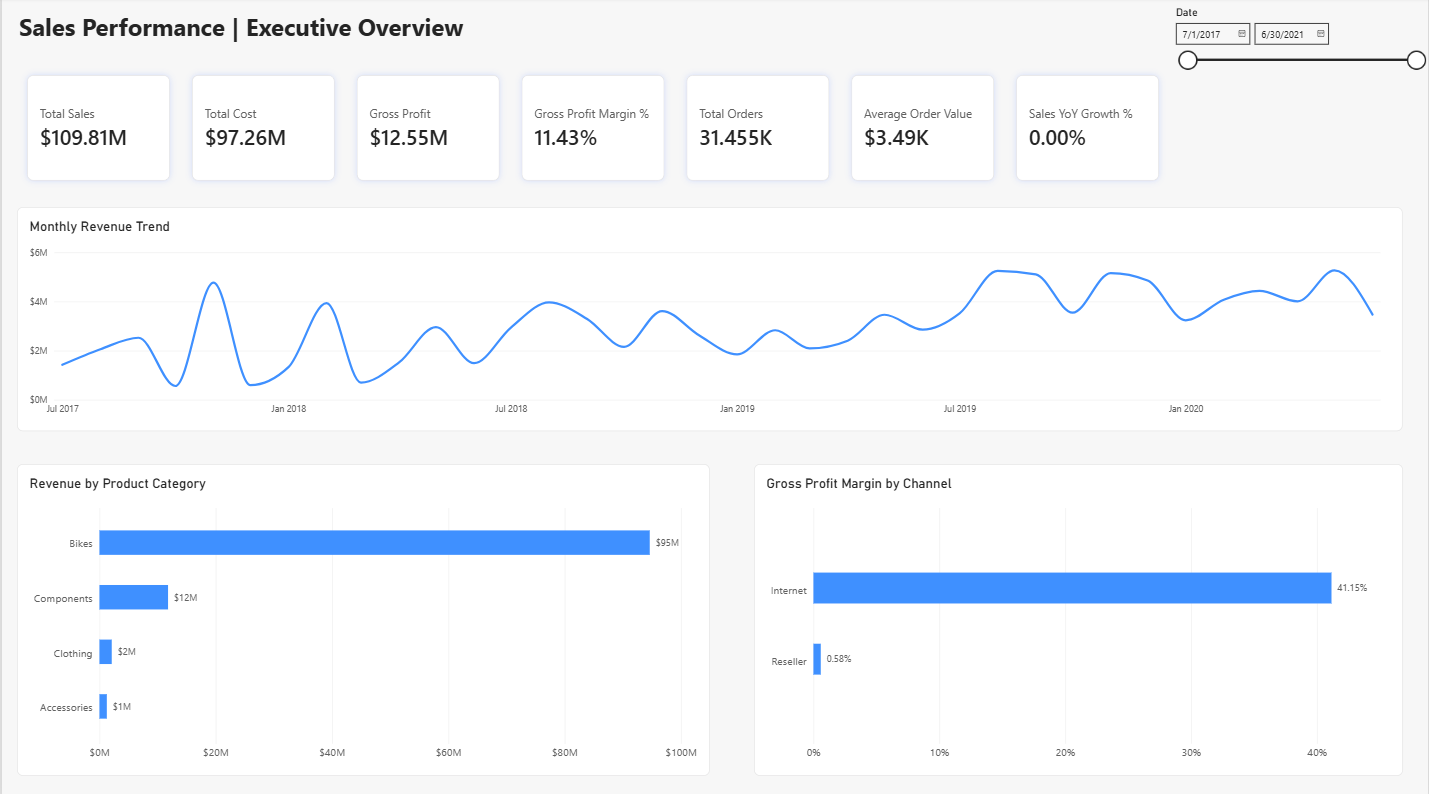

The dashboard page shown, as its layout file describes it:
{"tool":"powerbi","page":{"name":"Executive Overview","canvas":[1920,1080],"ordinal":1},"visuals":[{"type":"cardVisual","fields":{"Data":["_Measures.Total Sales","_Measures.Total Cost","_Measures.Gross Profit","_Measures.Gross Profit Margin %","_Measures.Total Orders","_Measures.Average Order Value","_Measures.Sales YoY Growth %"]},"box":[22.9,94.3,1550,164.3],"z":0},{"type":"lineChart","title":"Monthly Revenue Trend","fields":{"Category":["Date.Date.Variation.Date Hierarchy.Year","Date.Date.Variation.Date Hierarchy.Month"],"Y":["_Measures.Total Sales"]},"box":[20.2,282.8,1866.4,301.6],"z":1000},{"type":"slicer","fields":{"Values":["Date.Date"]},"box":[1572.9,12.1,347.4,164.3],"z":2000},{"type":"clusteredBarChart","title":"Revenue by Product Category","fields":{"Category":["Product.Category"],"Y":["_Measures.Total Sales"]},"box":[20.2,628.9,933.2,420.1],"z":3000},{"type":"clusteredBarChart","title":"Gross Profit Margin by Channel","fields":{"Category":["SalesOrder.Channel"],"Y":["_Measures.Gross Profit Margin %"]},"box":[1012.7,628.9,874,420.1],"z":4000},{"type":"textbox","box":[22.9,17.5,626.2,76.8],"z":4001}]}

Visuals, with their boxes in screenshot pixels (x1, y1, x2, y2), scaled from the page's 1920x1080 canvas onto the 1429x794 screenshot:
cardVisual - _Measures.Total Sales x _Measures.Total Cost: <bbox>17, 69, 1171, 190</bbox>
"Monthly Revenue Trend" lineChart: <bbox>15, 208, 1404, 430</bbox>
slicer - Date.Date: <bbox>1171, 9, 1428, 130</bbox>
"Revenue by Product Category" clusteredBarChart: <bbox>15, 462, 710, 771</bbox>
"Gross Profit Margin by Channel" clusteredBarChart: <bbox>754, 462, 1404, 771</bbox>
textbox: <bbox>17, 13, 483, 69</bbox>
